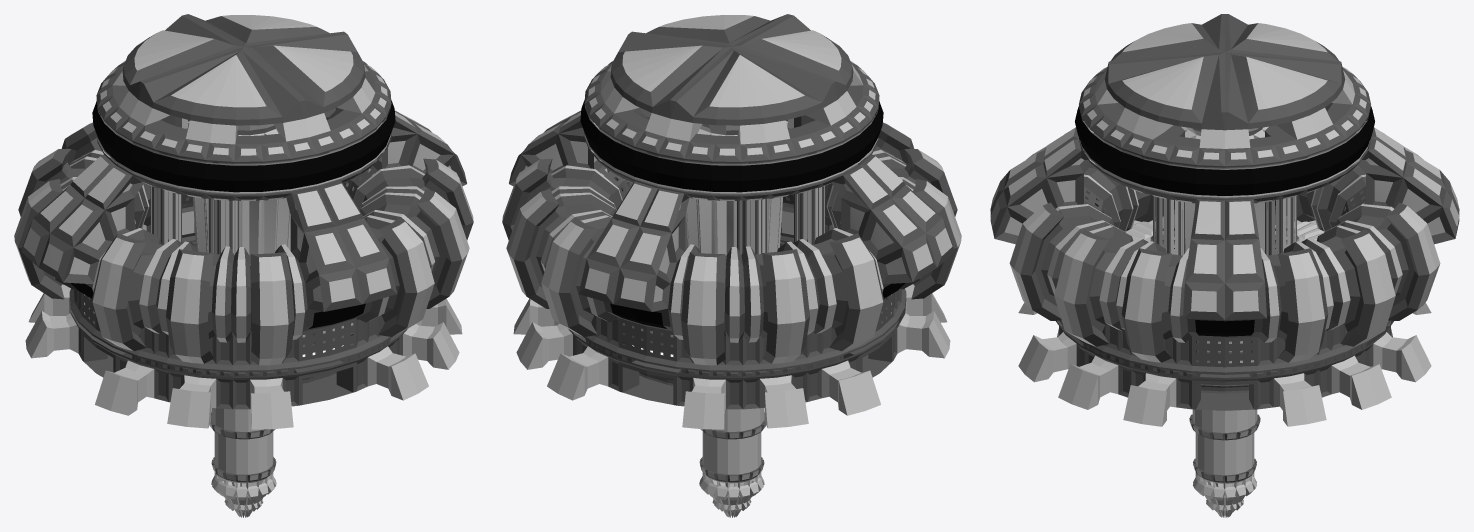
File: miningstation.dae
The picture shows the model from 3 angles, left to right: view 1: azimuth 30°, elevation 25°; view 2: azimuth 150°, elevation 25°; view 3: azimuth 270°, elevation 25°; orthographic projection.
Visible parts, largest first — view 1: MiningStation_Roof; view 2: MiningStation_Roof; view 3: MiningStation_Roof.
Boxes of the visible parts, x1,y1,x2,y2 form: MiningStation_Roof: (14,14,473,517); MiningStation_Roof: (502,14,961,517); MiningStation_Roof: (990,14,1459,517).
Bounding box in the file's own units: 28.09 × 28.09 × 30.92.
